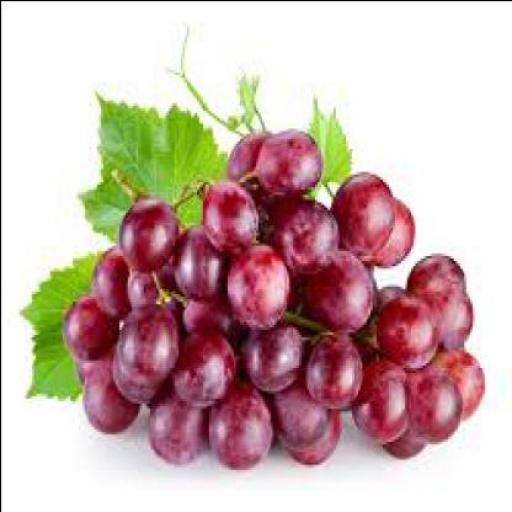biodegradable: (78, 89, 226, 242), (24, 245, 110, 400), (208, 375, 276, 466), (304, 243, 378, 326), (330, 169, 396, 257), (225, 237, 291, 323), (265, 194, 339, 268), (118, 299, 180, 382), (150, 375, 208, 458), (255, 125, 322, 196), (173, 328, 237, 402), (355, 355, 412, 438), (302, 100, 350, 196), (269, 374, 333, 446), (204, 176, 264, 252), (379, 293, 443, 364), (408, 252, 467, 326), (120, 194, 180, 265), (424, 346, 486, 413), (242, 323, 306, 387), (406, 367, 463, 438), (308, 328, 362, 402), (360, 193, 414, 262), (175, 222, 227, 290), (65, 288, 117, 354), (286, 405, 342, 461), (116, 338, 166, 400), (92, 242, 131, 318), (228, 122, 269, 186), (225, 72, 265, 130), (185, 288, 237, 331), (128, 260, 172, 309), (443, 288, 475, 346), (384, 420, 428, 454), (286, 270, 308, 308), (377, 282, 408, 308)
